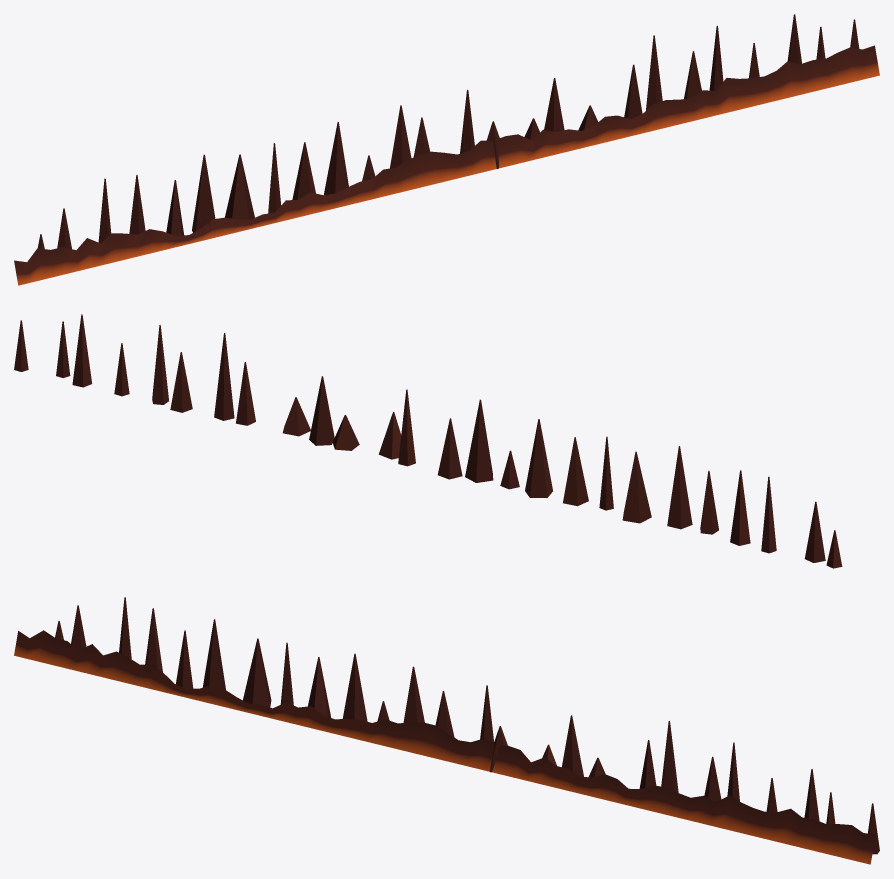
3 views of the same model, one above another, from view 1: azimuth 30°, elevation 25°; view 2: azimuth 150°, elevation 25°; view 3: azimuth 330°, elevation 25° (orthographic).
Parts seen in each view (by area): view 1: hl_hz_a; view 2: hl_hz_a; view 3: hl_hz_a.
Boxes of the visible parts, x1,y1,x2,y2 form: hl_hz_a: (14, 14, 879, 285); hl_hz_a: (14, 314, 842, 568); hl_hz_a: (14, 597, 879, 864).
Bounding box in the file's own units: 420 × 39 × 17.44.
